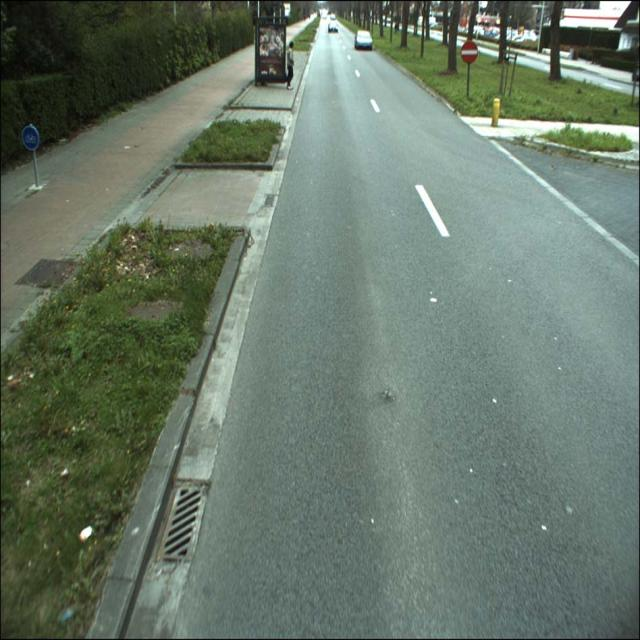girisyok: (460, 41, 478, 64)
